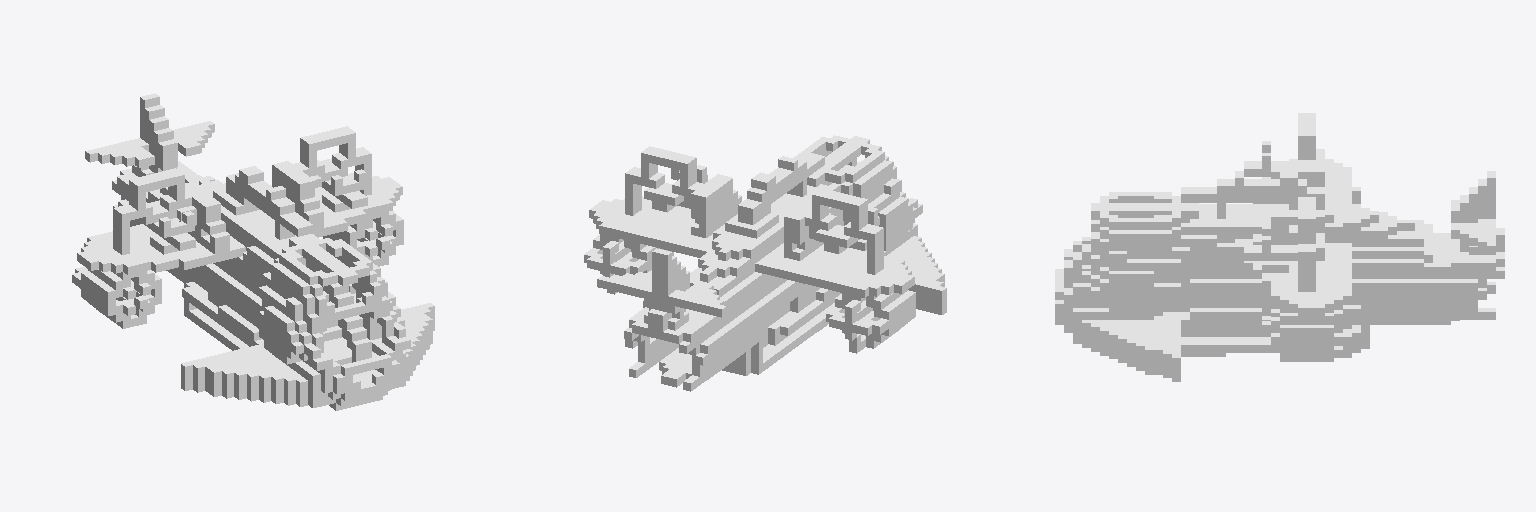
The model's file is good-boy.obj.
3 renders of one model, left to right at view 1: azimuth 30°, elevation 25°; view 2: azimuth 150°, elevation 25°; view 3: azimuth 270°, elevation 25°, orthographic.
Visible parts, largest first — view 1: object 1; view 2: object 1; view 3: object 1.
Boxes of the visible parts, x1=… form: object 1: x1=72, y1=93, x2=434, y2=410; object 1: x1=584, y1=135, x2=946, y2=391; object 1: x1=1055, y1=113, x2=1504, y2=381.
Bounding box in the file's own units: 4 × 2.2 × 5.